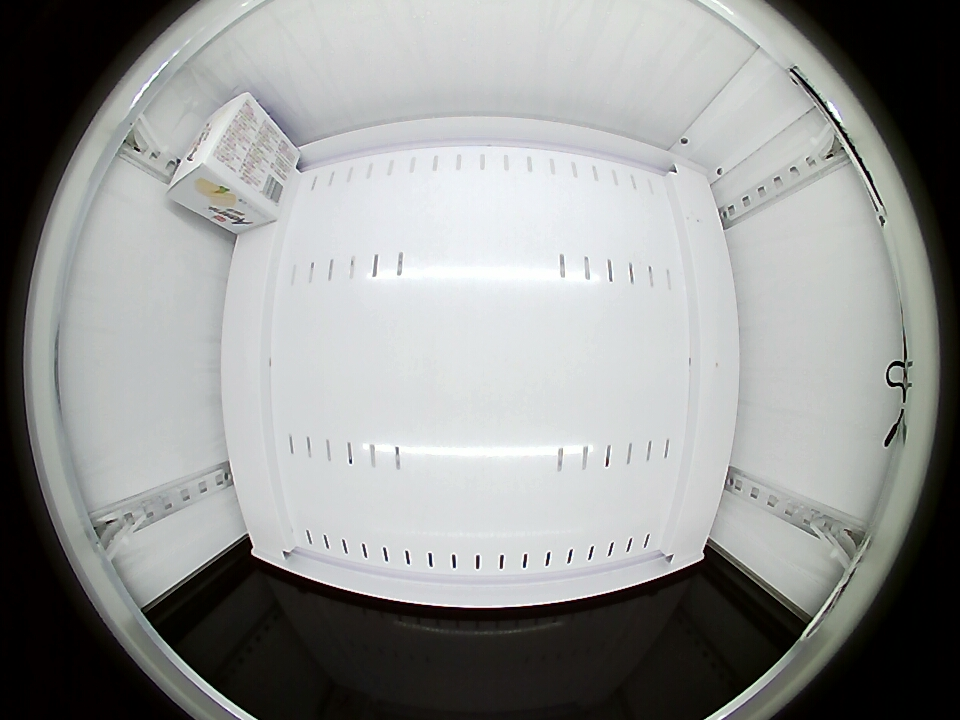meiniye: (168, 91, 267, 210)
